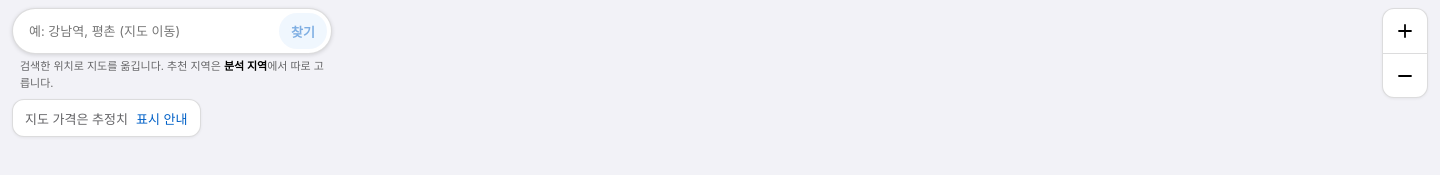
Test case: 역·장소 검색 › SDK 장소검색을 못 쓰면 조용히 죽지 않고 그 사실을 알린다(CSP 차단 포함)
This screenshot has width=1440, height=175.
Type "강남역" into the search field named "장소·역 검색".
click(146, 31); type("강남역")  # box x1=17 y1=13 x2=275 y2=49
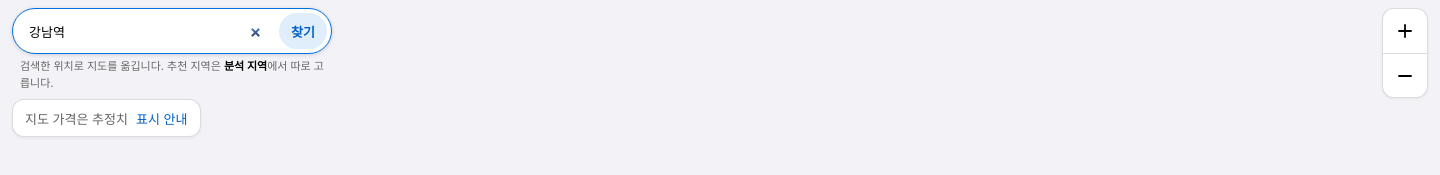
Click the button "찾기".
click(303, 31)  # box x1=279 y1=13 x2=327 y2=49
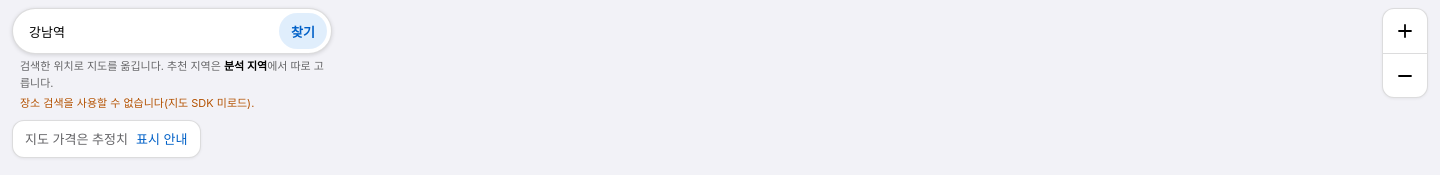
Expected: the text "장소 검색을 사용할 수 없습니다(지도 SDK 미로드)." is shown, x1=20 y1=96 x2=254 y2=110
